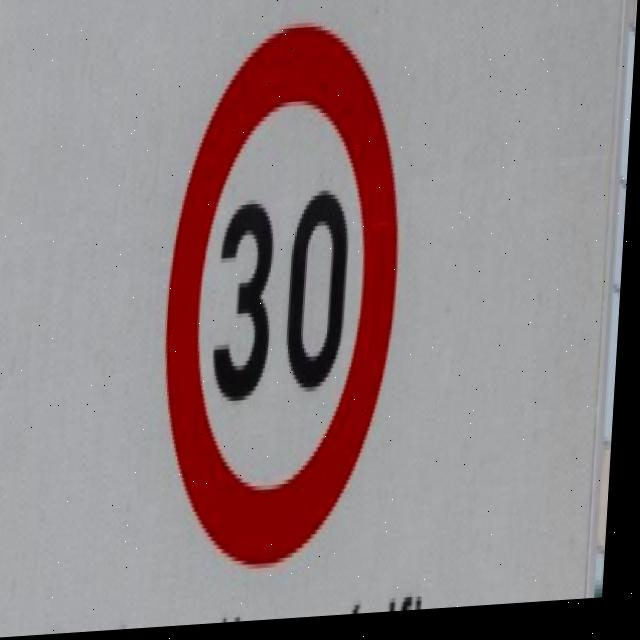Speed limit 30: (157, 18, 416, 579)
